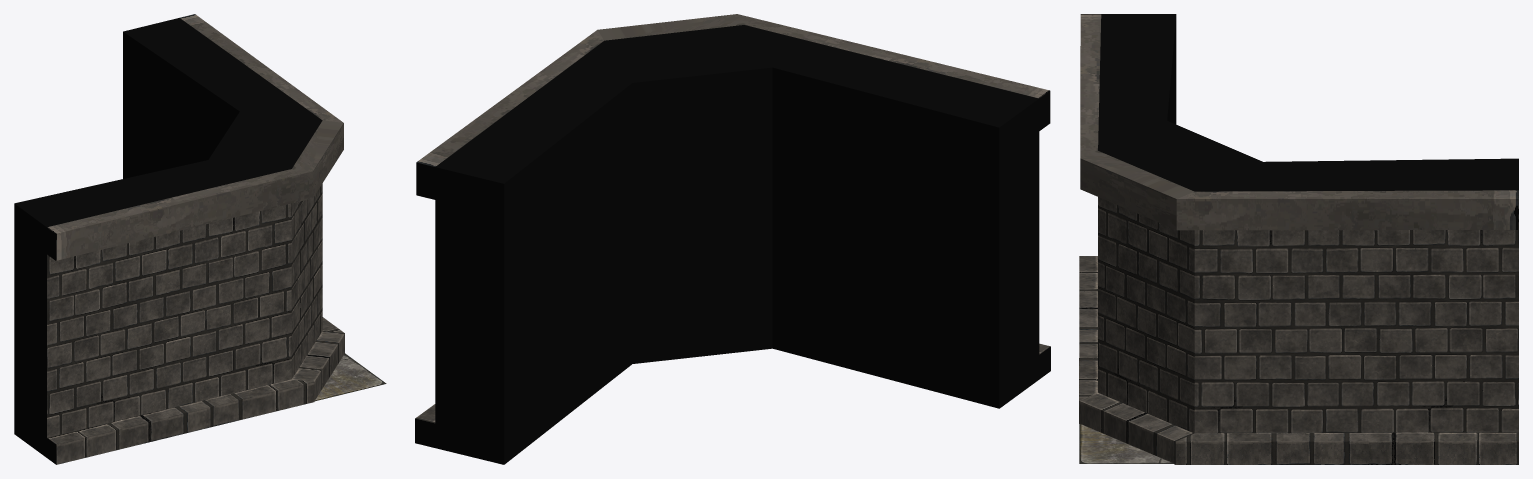
Rendered from ModularWallRoundedCorner01.fbx.
3 renders of one model, left to right at view 1: azimuth 30°, elevation 25°; view 2: azimuth 150°, elevation 25°; view 3: azimuth 270°, elevation 25°, orthographic. The views are drawn at different scales.
Visible parts, largest first — view 1: Plane, Plane.001; view 2: Plane; view 3: Plane, Plane.001.
Boxes of the visible parts, left/top/right/bottom form: Plane: left=14, top=14, right=344, bottom=464; Plane.001: left=315, top=353, right=386, bottom=401; Plane: left=415, top=14, right=1050, bottom=464; Plane: left=1079, top=14, right=1518, bottom=464; Plane.001: left=1079, top=423, right=1174, bottom=463.
Size of the model in its own units: 3 by 2 by 3.
Materials: 2 (2 with a texture image).
